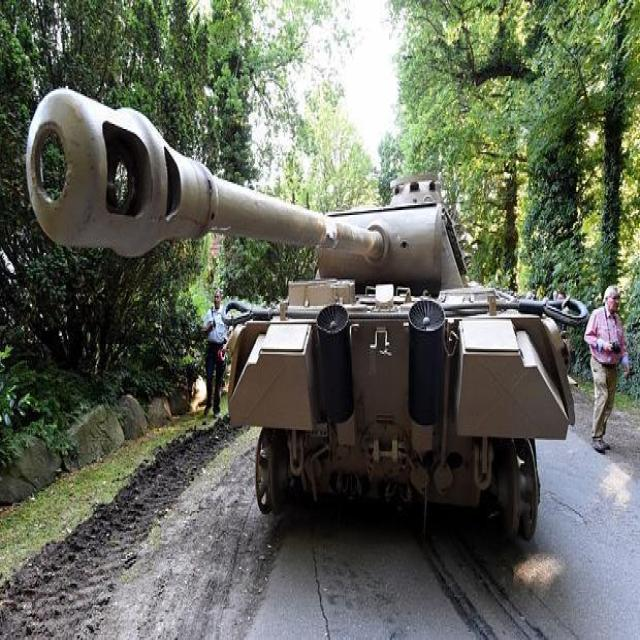Tanks: (222, 121, 580, 593)
